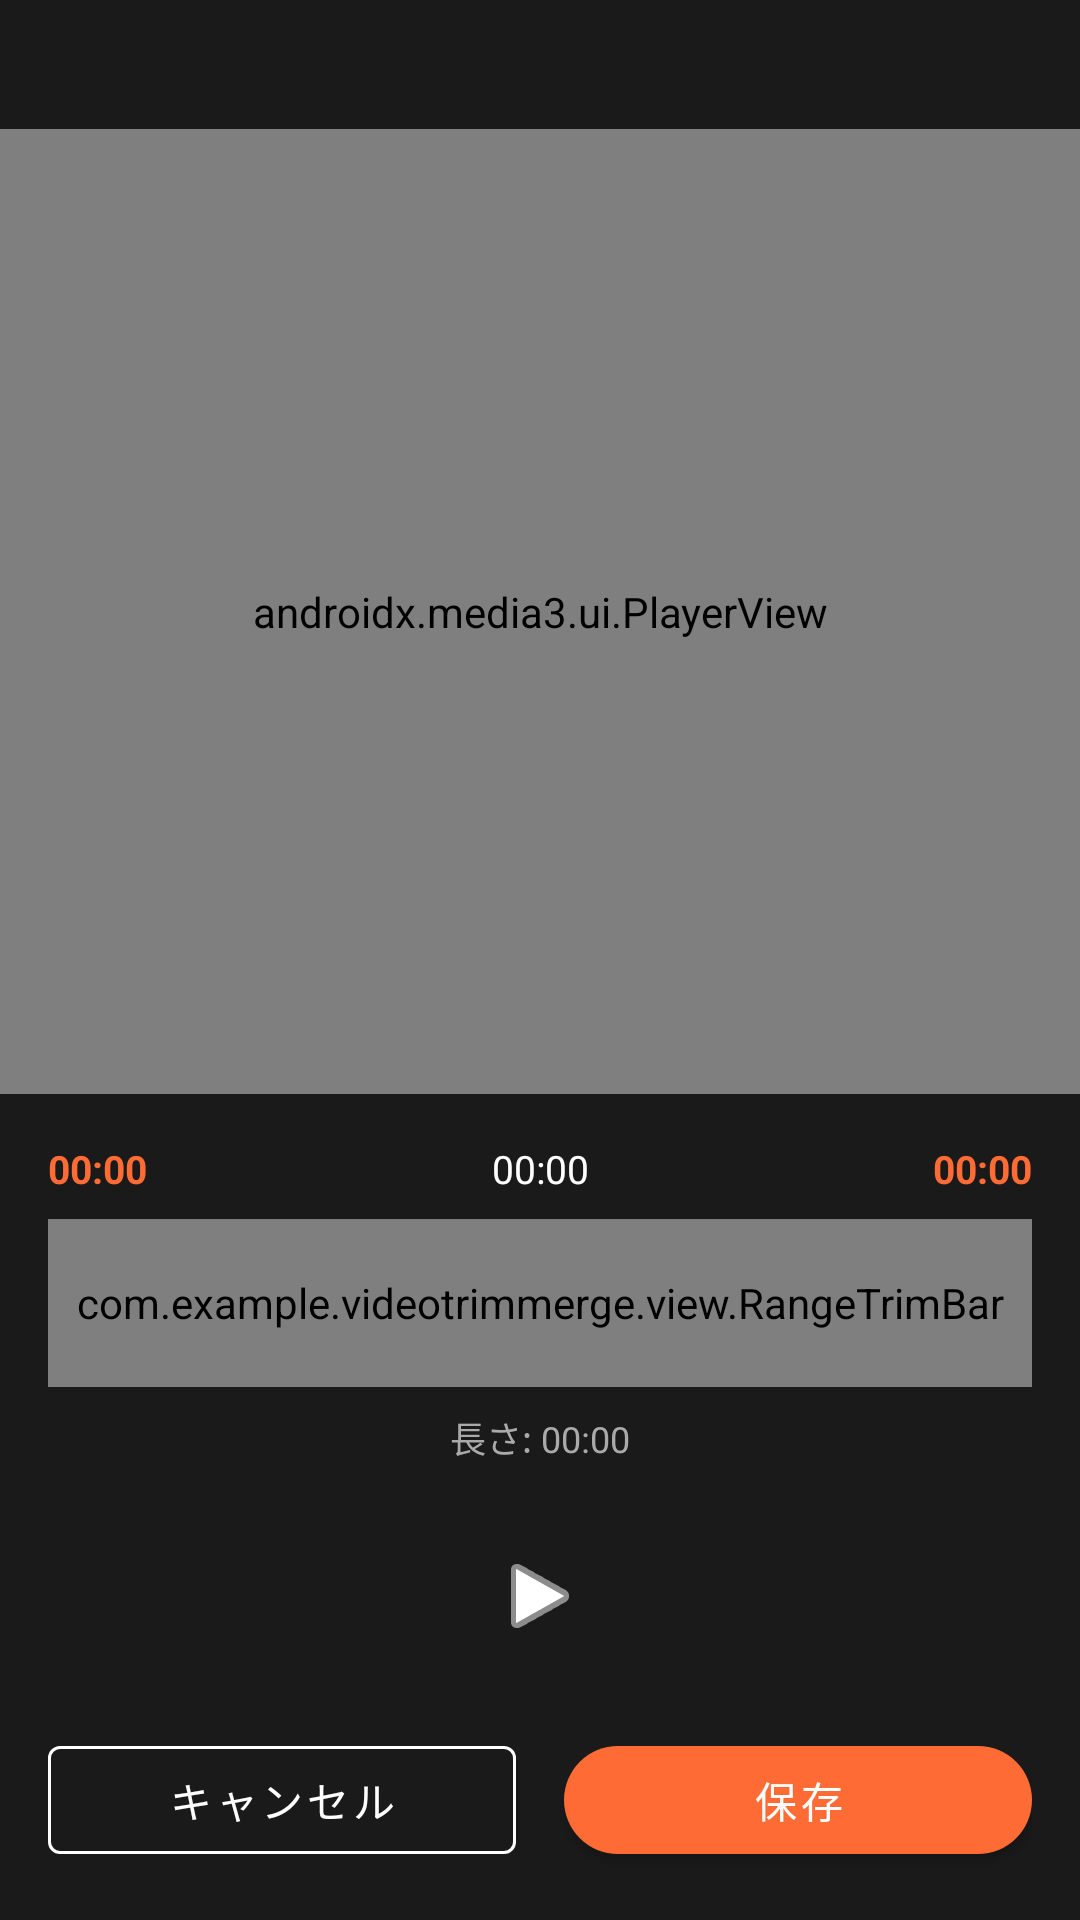

Named icons in this screenshot (1080×1920) and their bounding boxes, [left=x1, top=y1, right=x2, bottom=y2]:
再生/停止: [left=511, top=1564, right=569, bottom=1628]
